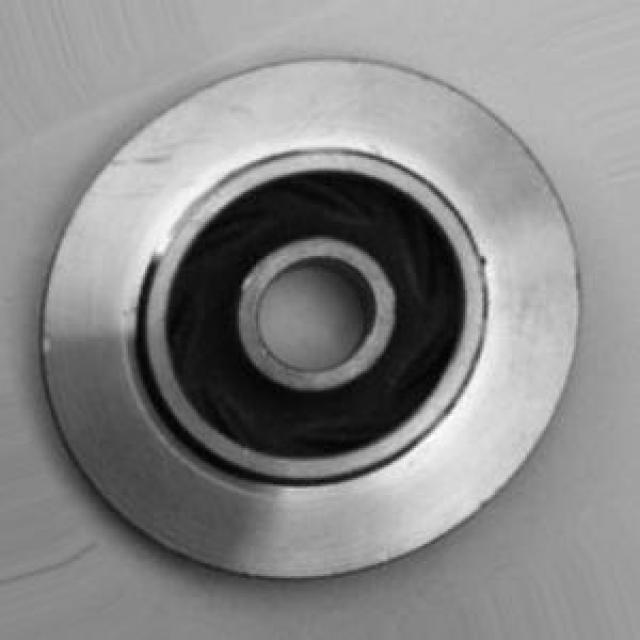Defect: (474, 244, 504, 274)
